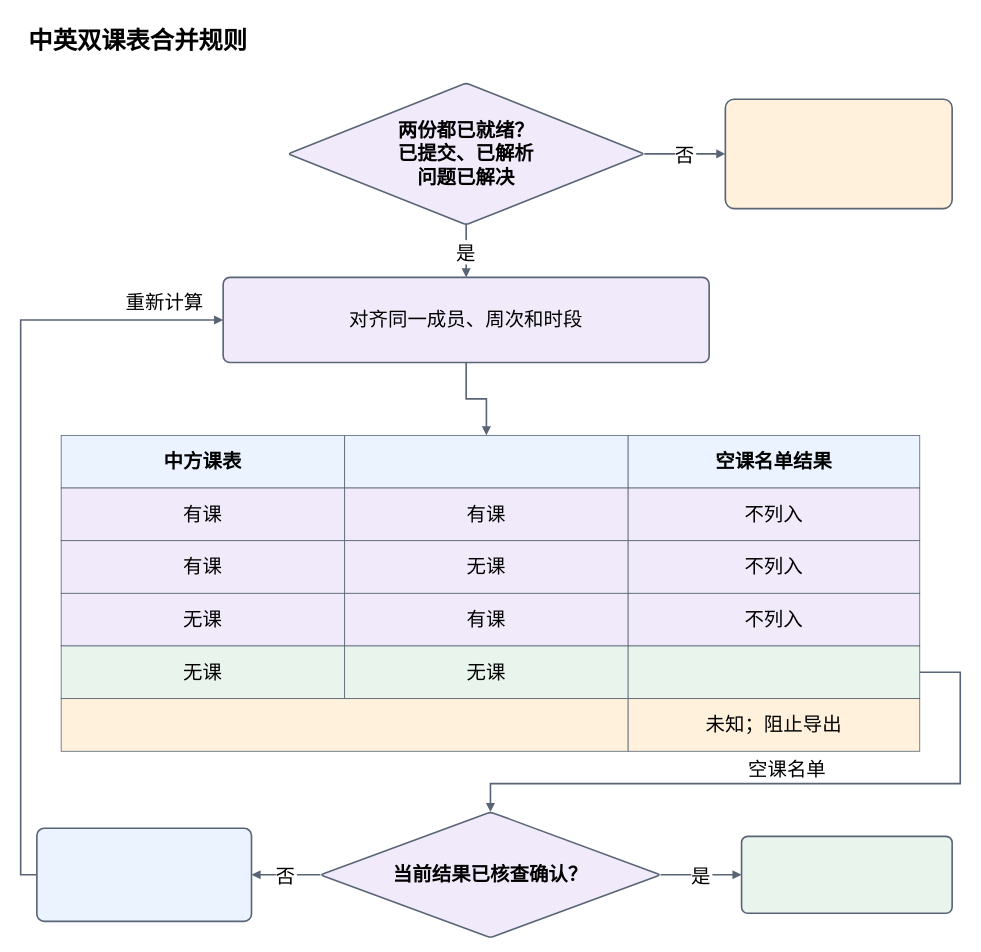
Image size: 981x952. Some labels were removed from this diagram. Each missing label, with the centre of its shape:
"任一课表未就绪" belongs at (x=344, y=724).
"列入空课名单" belongs at (x=773, y=672).
"回查原件 修正记录" belongs at (x=144, y=874).
"最终空课表 （Excel）" belongs at (x=846, y=874).
"未知 ≠ 无课 阻止正式导出" belongs at (x=838, y=153).
"英方课表" belongs at (x=486, y=461).
